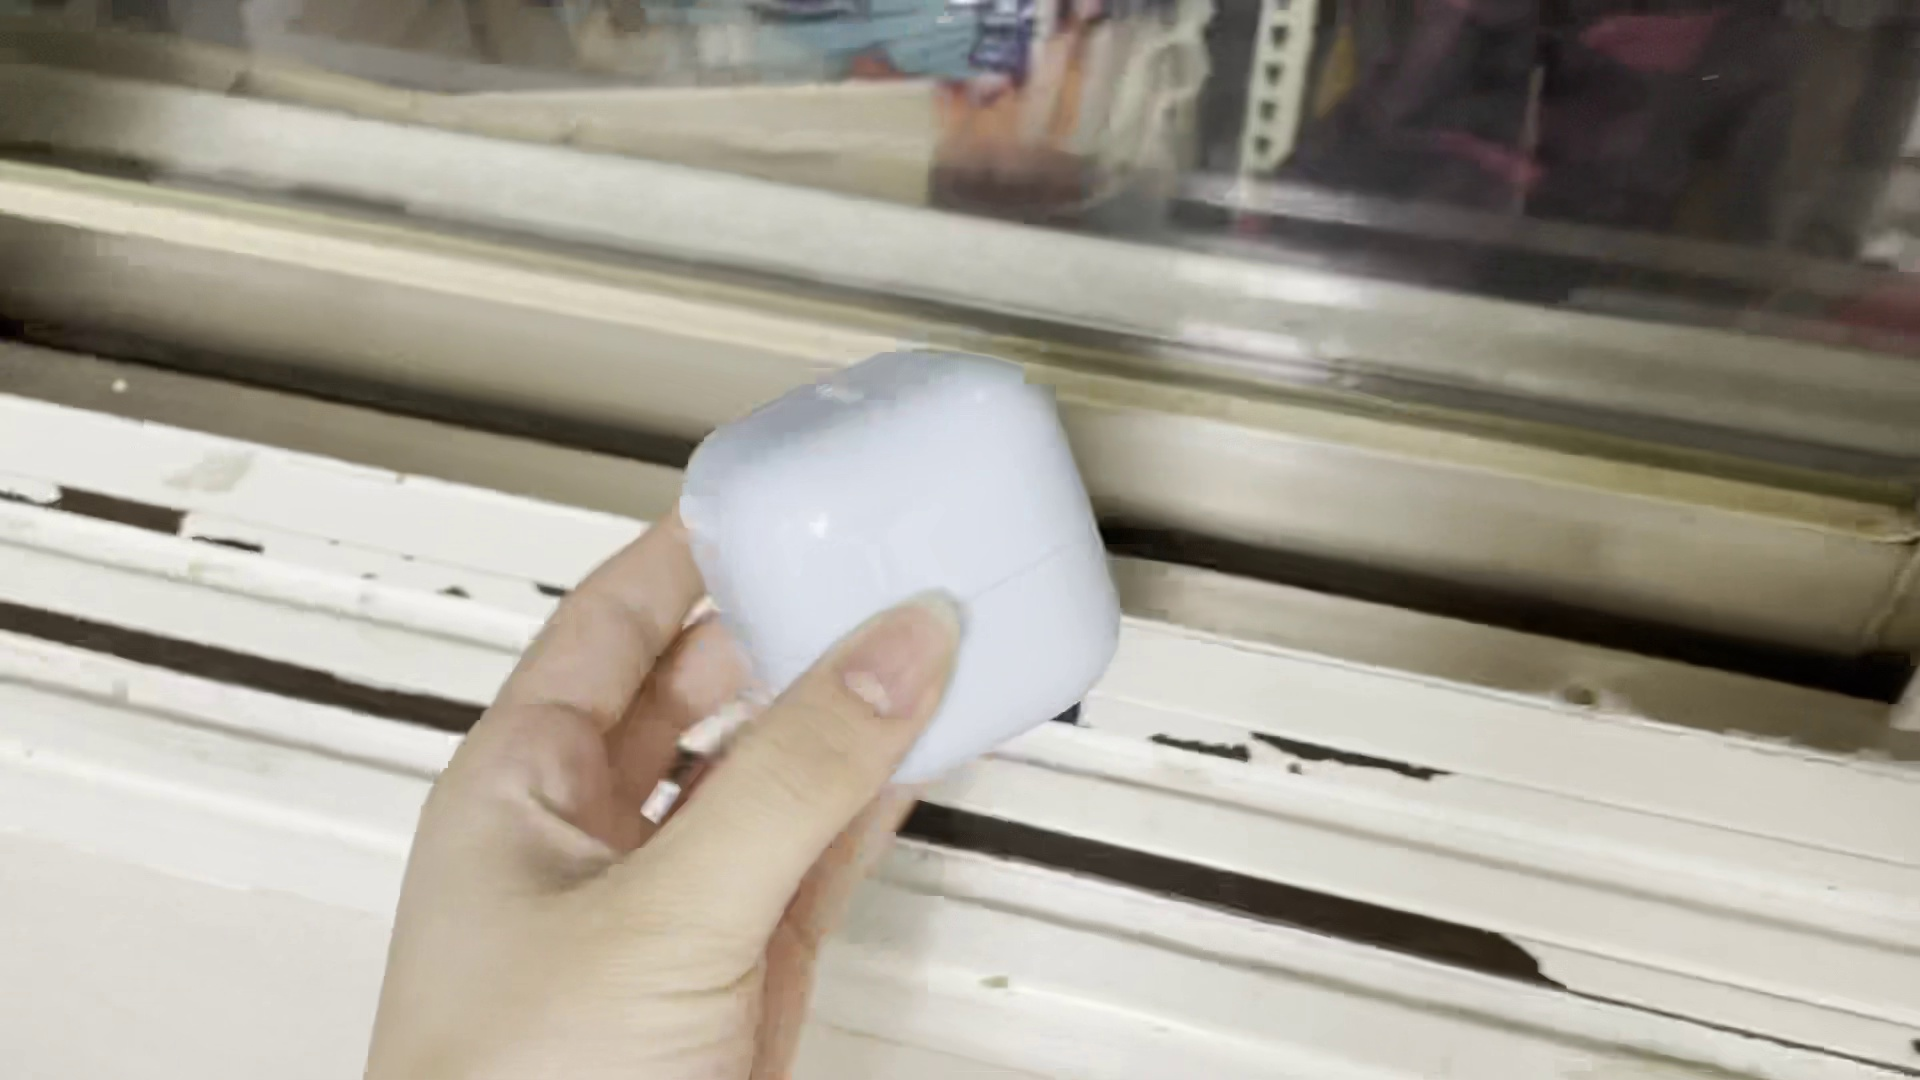cream: (683, 335, 1118, 789)
